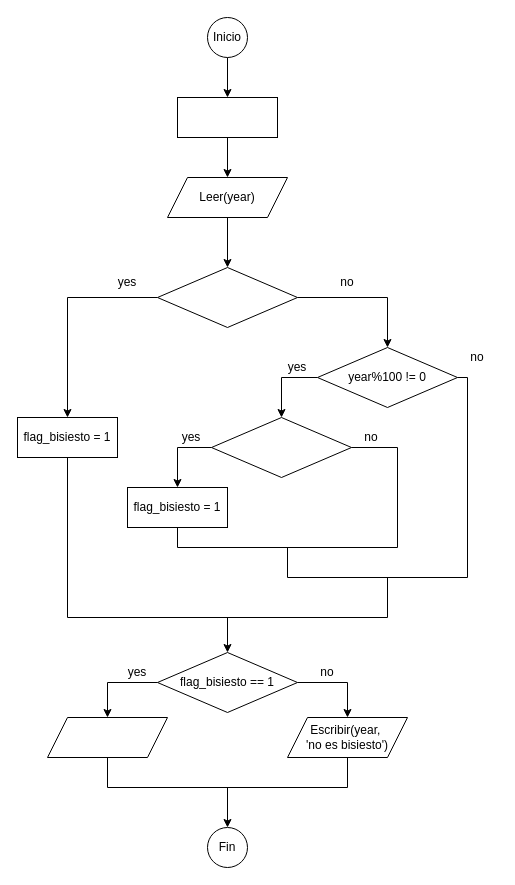
The diagram is 515 pixels wide and 885 high, and some of its shapes have lost their labels. Each missing label, with the box of its shape:
Escribir(year, 'es bisiesto'): (46, 716, 168, 758)
flag_bisiesto = 0: (176, 96, 278, 138)
year%4 == 0: (210, 416, 352, 478)
year%400 == 0: (156, 266, 298, 328)
